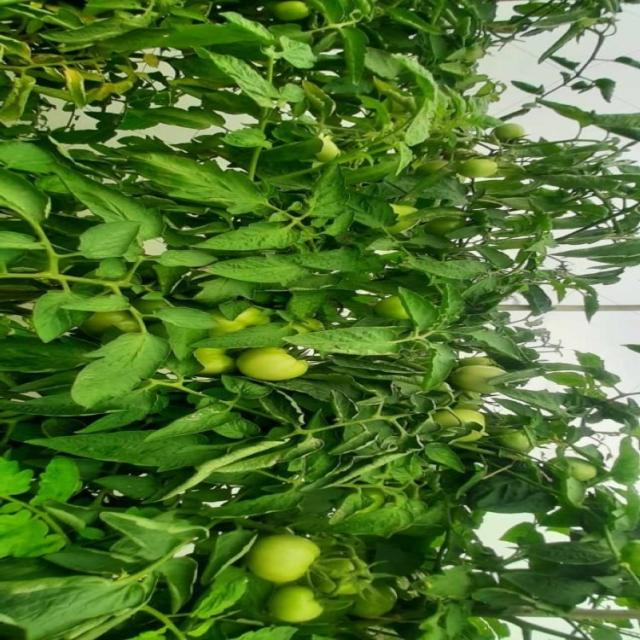tomato: (233, 336, 316, 393), (238, 524, 311, 587), (252, 577, 335, 632), (443, 351, 507, 397), (467, 152, 521, 185), (190, 340, 233, 371), (264, 1, 319, 25), (441, 404, 488, 431), (493, 116, 529, 146), (501, 423, 527, 453)
